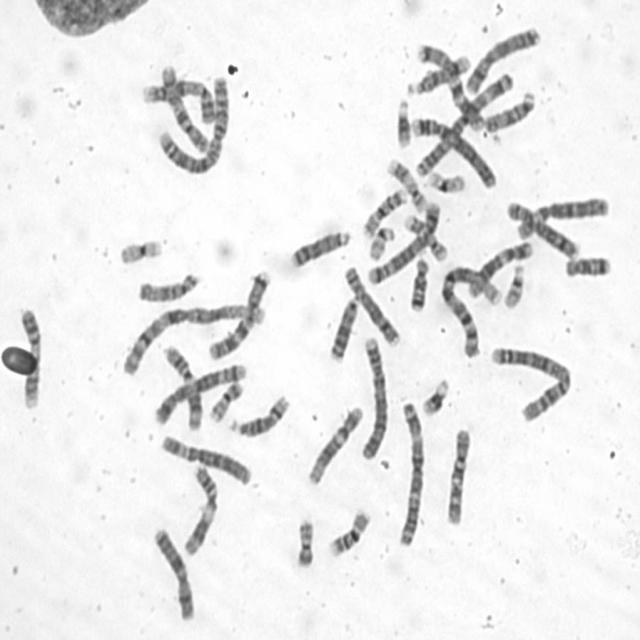A1: (118, 300, 264, 377), (437, 260, 503, 358)
A2: (154, 71, 231, 177), (486, 343, 574, 423)
A3: (411, 70, 514, 178), (395, 396, 426, 548)
B4: (409, 112, 498, 191), (357, 334, 389, 460)
B5: (366, 198, 442, 287), (151, 359, 249, 426)
C10: (158, 61, 210, 154), (442, 424, 472, 528)
C11: (160, 341, 203, 432), (180, 461, 220, 557)
C12: (304, 401, 365, 486), (464, 237, 534, 300)
C6: (157, 430, 253, 488), (511, 193, 610, 242)
C7: (414, 39, 486, 133), (204, 267, 272, 361)
C8: (340, 263, 402, 349), (505, 197, 580, 260)
C9: (138, 76, 218, 125), (17, 304, 44, 410)
D13: (286, 226, 352, 269), (326, 294, 360, 363)
D14: (404, 50, 472, 96), (226, 392, 292, 439)
D15: (482, 88, 537, 135), (136, 270, 200, 304)
E16: (359, 185, 408, 239), (325, 506, 373, 560)
E17: (384, 154, 428, 214), (401, 211, 448, 263)
E18: (561, 252, 613, 280), (407, 254, 430, 314)
F19: (116, 236, 164, 266), (424, 166, 466, 196)
F20: (207, 377, 245, 424), (292, 515, 317, 570)
G21: (419, 374, 451, 418), (393, 95, 413, 150)
G22: (365, 223, 396, 263), (501, 262, 526, 310)
X: (461, 24, 542, 96), (150, 525, 197, 623)
